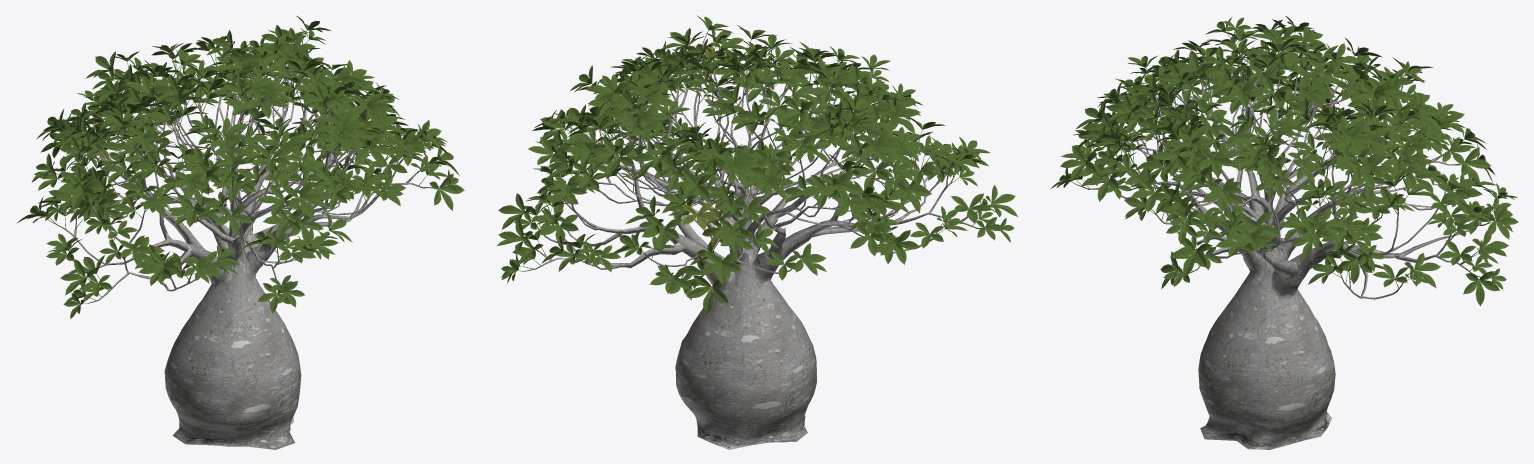
Rendered from baobab.glb.
The picture shows the model from 3 angles, left to right: view 1: azimuth 30°, elevation 25°; view 2: azimuth 150°, elevation 25°; view 3: azimuth 270°, elevation 25°; orthographic projection.
Parts seen in each view (by area): view 1: Adansonia_digitata_HD; view 2: Adansonia_digitata_HD; view 3: Adansonia_digitata_HD.
Boxes of the visible parts, bbox=[...] form: Adansonia_digitata_HD: bbox=[16, 16, 464, 449]; Adansonia_digitata_HD: bbox=[497, 15, 1018, 449]; Adansonia_digitata_HD: bbox=[1051, 16, 1518, 449].
Size of the model in its own units: 7 by 6 by 6.84.
Materials: 7 (7 with a texture image).
